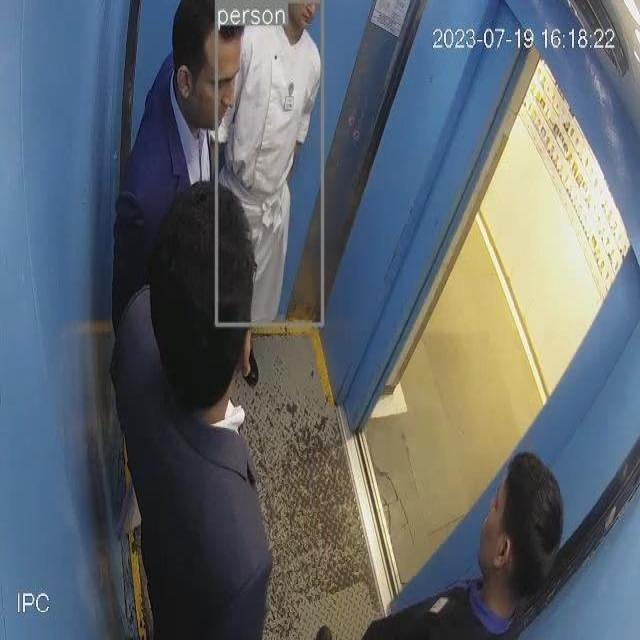person: (123, 161, 274, 640), (312, 456, 567, 635), (118, 0, 246, 319), (227, 0, 322, 385)
